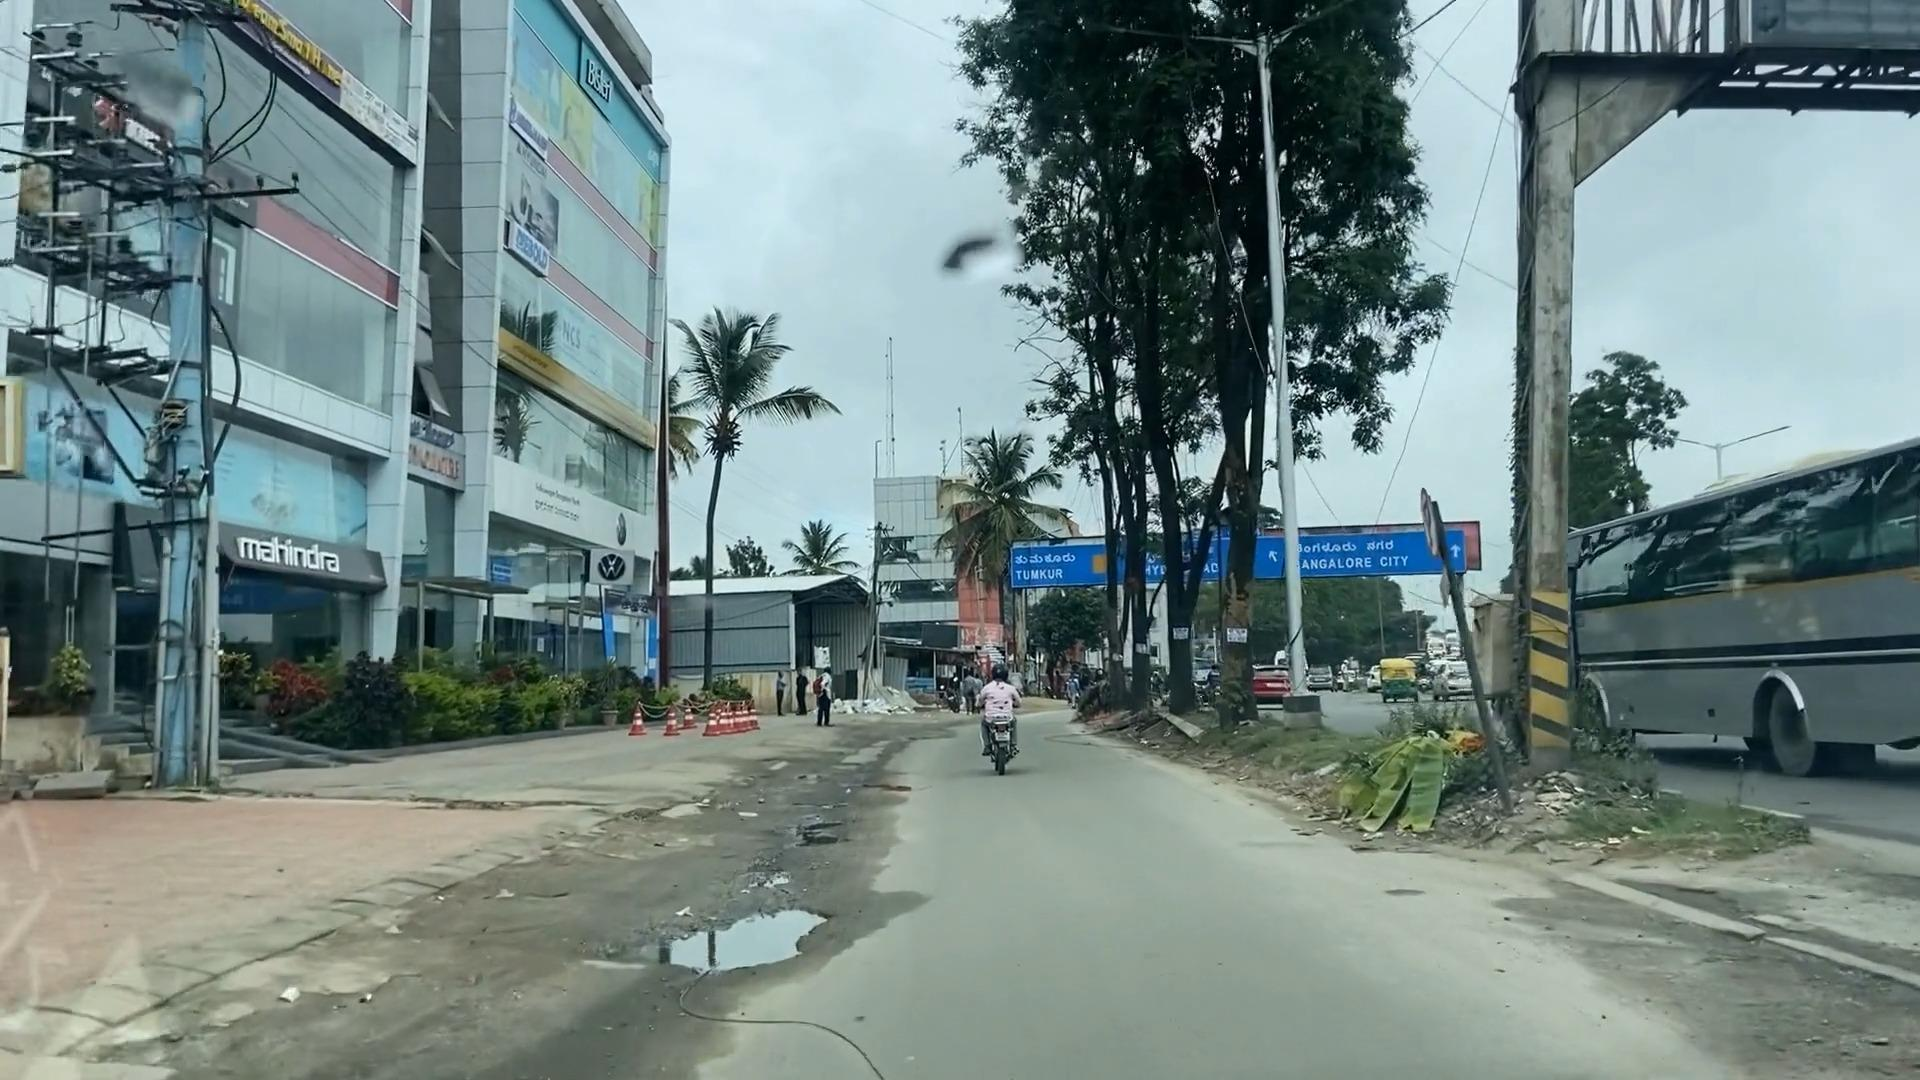RoadDamages: (541, 870, 865, 990)
